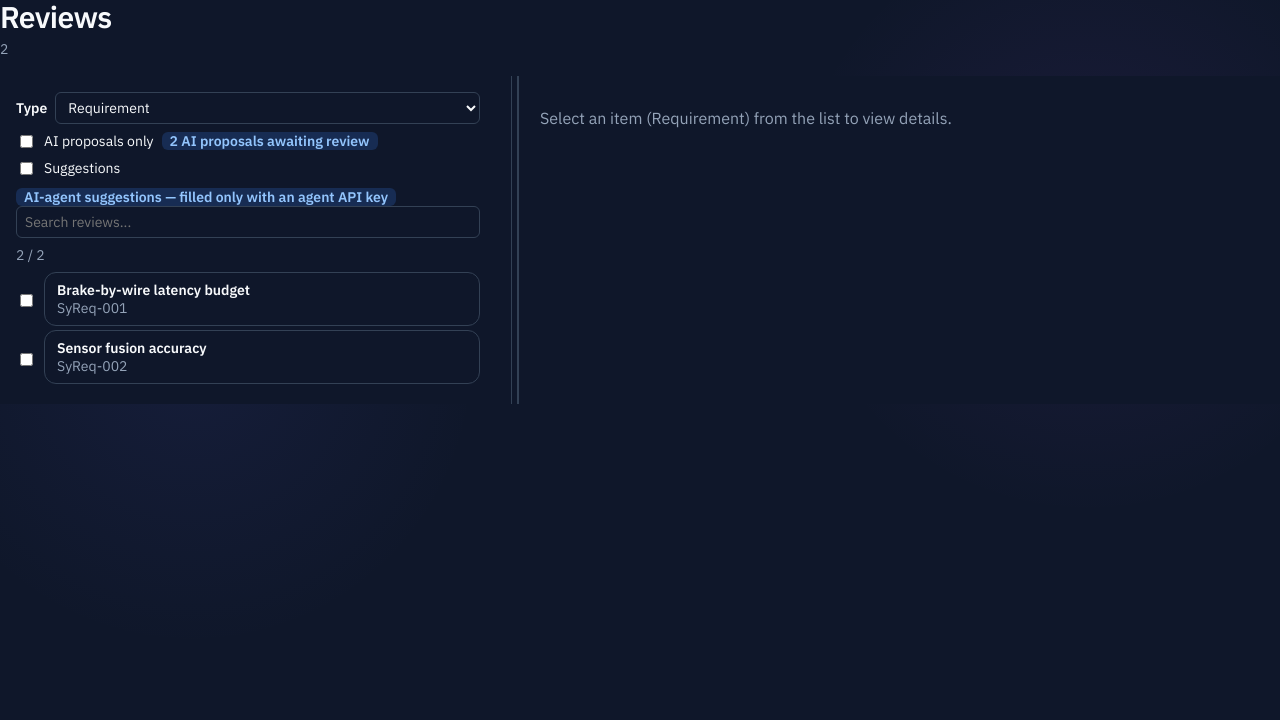
Scenario: ReviewsView (REQ-144 smoke tests) › [REQ-144] Approve opens the signature dialog when the transition has signature_gate
The width and height of the screenshot is (1280, 720).
Expected: the text "Brake-by-wire latency budget" is shown, left=57, top=280, right=250, bottom=298
Step 1. Click the button with test id "review-list-item-req-001" → (154, 290), box left=44, top=272, right=480, bottom=326
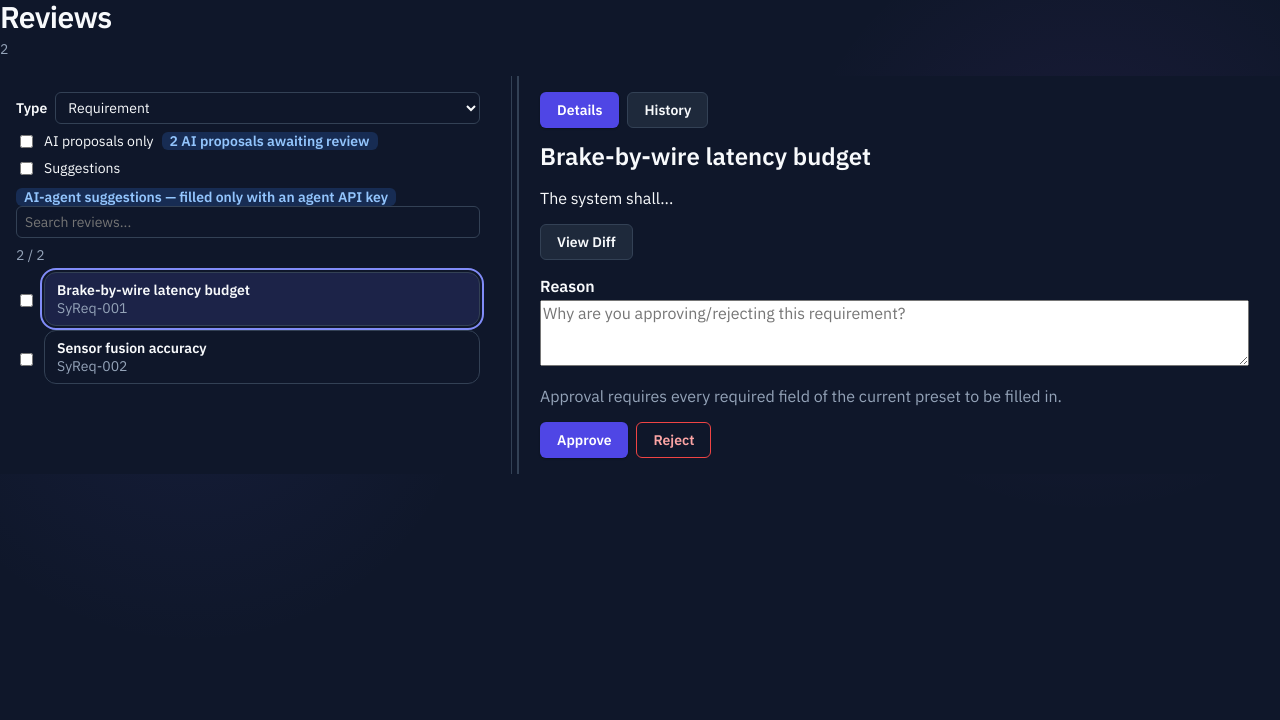
Expected: the button with test id "review-approve-btn" is enabled
Step 2. Click the button with test id "review-approve-btn" → (584, 440), box left=540, top=422, right=628, bottom=458
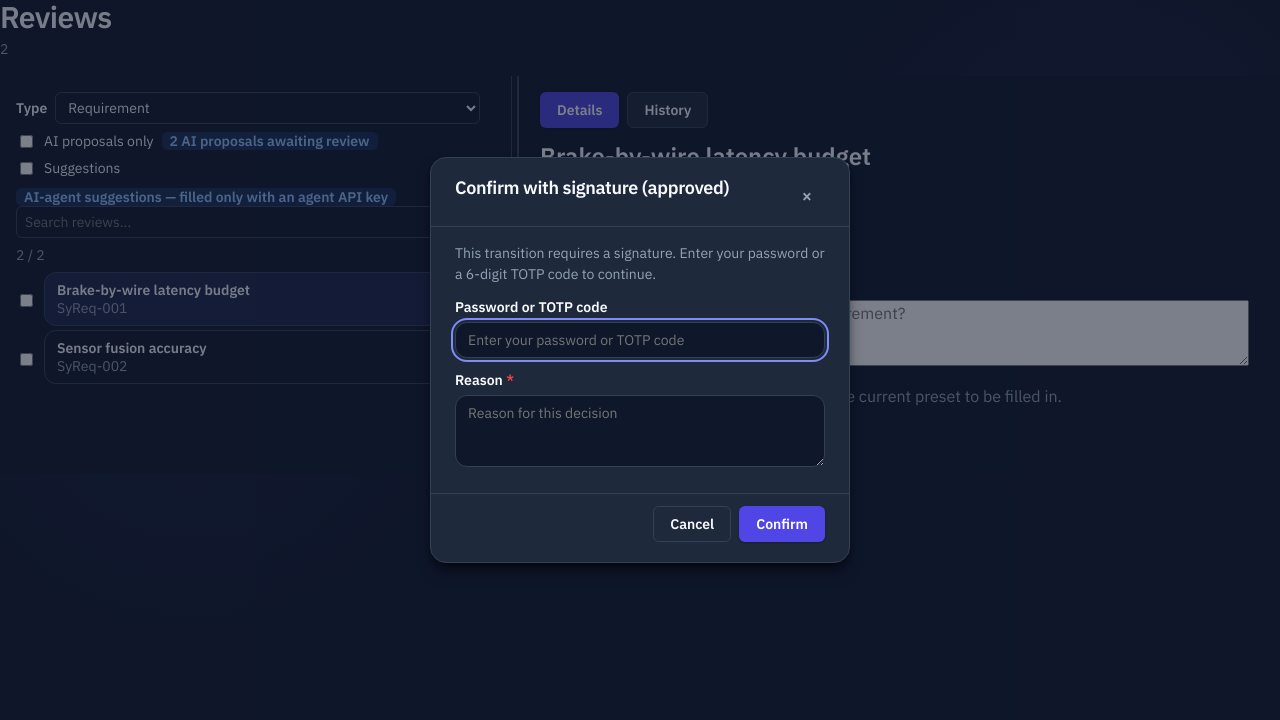
Expected: the dialog with test id "signature-dialog" is shown, left=430, top=157, right=850, bottom=563
